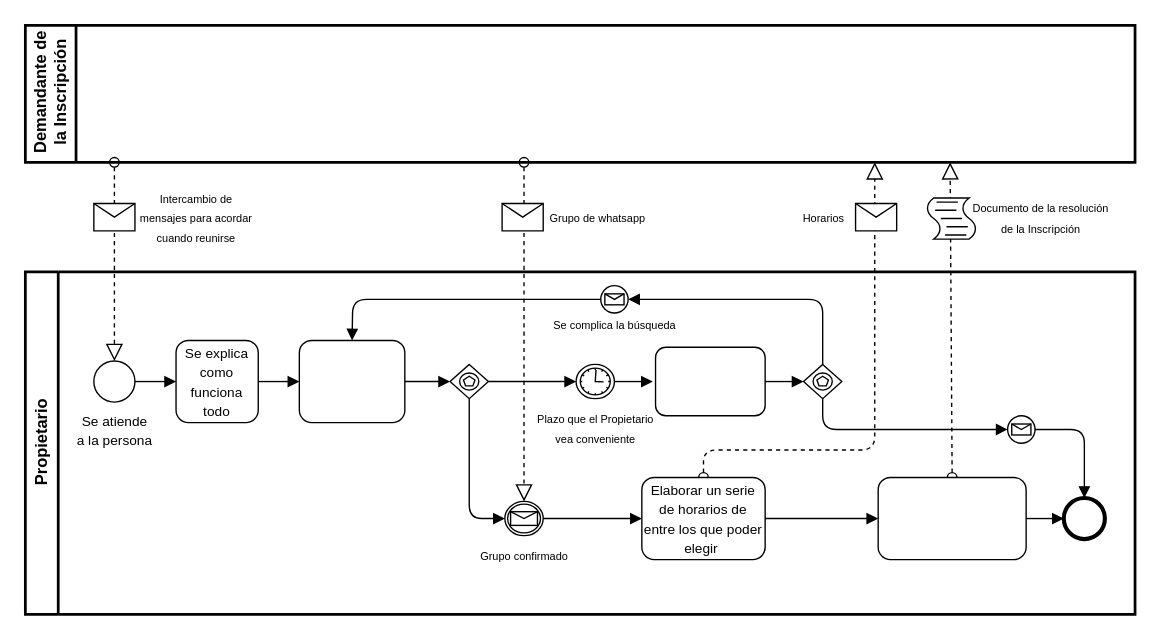
This 1159x638 diagram has some shape labels left out. Each missing label, with the centre of its shape:
"No se consigue grupo" belongs at [1020,428].
"Se da un plazo para buscar un grupo de alumnos" belongs at [351,381].
"Se elabora un presupuesto y se documenta la organización de clases" belongs at [951,518].
"Se pregunta si se ha averiguado algo" belongs at [709,381].
